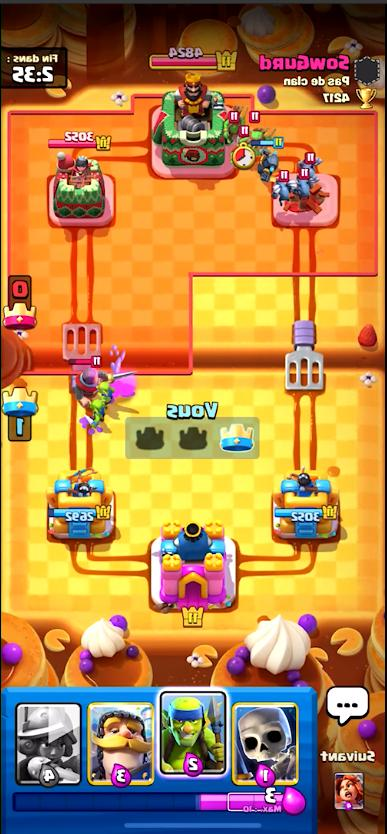chevalier: (69, 357, 99, 400)
gargouille: (271, 172, 295, 204), (298, 156, 321, 178), (298, 170, 316, 197)
gobelin: (253, 140, 282, 182), (88, 394, 110, 427), (97, 379, 118, 401)
gobelin_lances: (247, 111, 274, 143), (223, 111, 245, 141), (230, 135, 262, 152)
